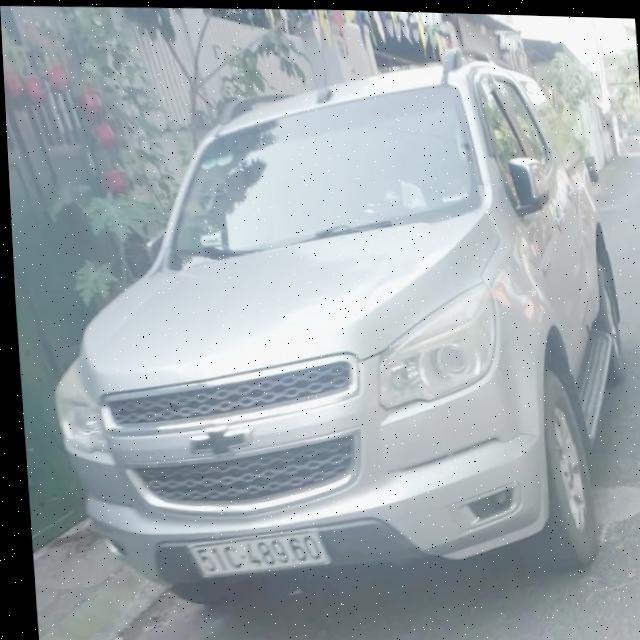car: (25, 42, 640, 632)
plate: (186, 523, 334, 587)
